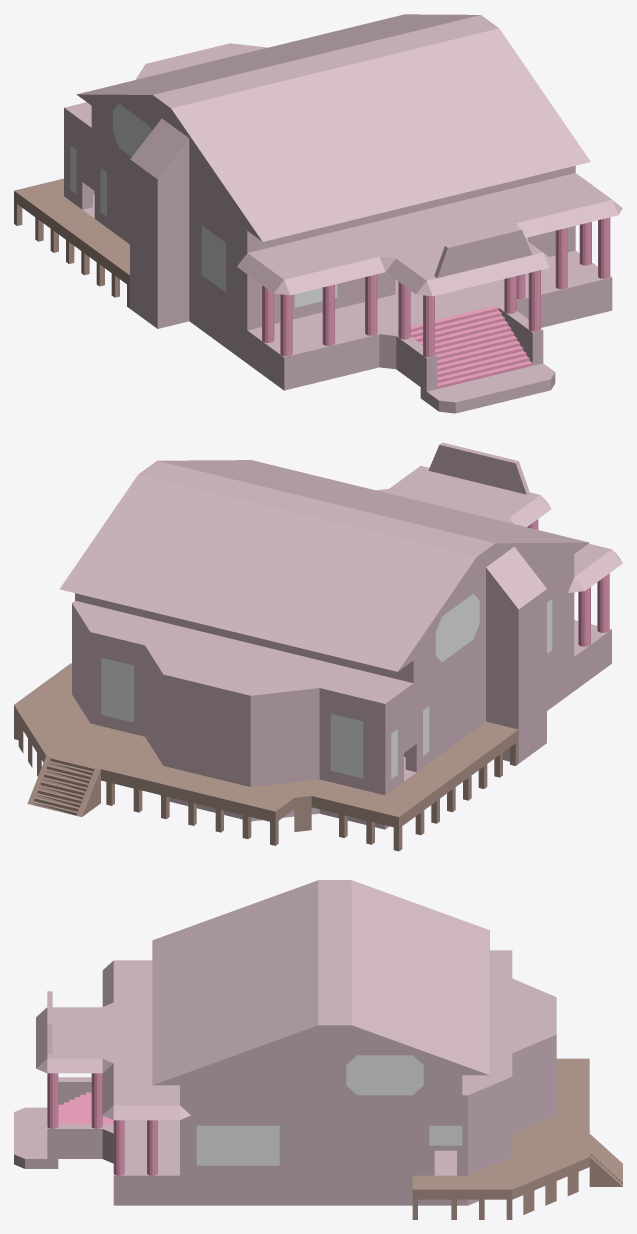
Rendered from deckhouse.glb.
3 views of the same model, one above another, from view 1: azimuth 30°, elevation 25°; view 2: azimuth 150°, elevation 25°; view 3: azimuth 270°, elevation 25° (orthographic). The views are drawn at different scales.
Visible parts, largest first — view 1: group1162040733, group1646688296, group1512824387, group1967046676, group632851983, group684463606, group309805238, group1024237734, group1179195914, group298094042, group628098600, group177792663 (+54 smaller); view 2: group340394544, group1374655403, group192495614, group1699825223, group1607319648, group163149771, group206490035, group1179195914, group298094042, group1072760689, group1842724371, group628098600 (+49 smaller); view 3: group1162040733, group2041255099, group1646688296, group315160935, group1179195914, group1512824387, group1699825223, group1374655403, group1024237734, group684463606, group1607319648, group192495614 (+50 smaller).
Part boxes in pixels (x1,y1,x2,y2): group1162040733: [83, 195, 612, 390]; group1646688296: [248, 173, 611, 279]; group1512824387: [171, 28, 514, 130]; group1967046676: [201, 73, 544, 174]; group632851983: [247, 139, 590, 241]; group684463606: [186, 50, 529, 152]; group309805238: [232, 117, 575, 219]; group1024237734: [217, 95, 559, 197]; group1179195914: [152, 15, 498, 118]; group298094042: [130, 159, 168, 328]; group628098600: [32, 196, 129, 286]; group177792663: [168, 177, 189, 326]; group340394544: [90, 611, 413, 715]; group1374655403: [75, 543, 429, 648]; group192495614: [59, 566, 413, 671]; group1699825223: [122, 474, 476, 579]; group1607319648: [107, 497, 460, 602]; group163149771: [91, 520, 444, 625]; group206490035: [163, 670, 256, 786]; group1179195914: [138, 460, 495, 567]; group298094042: [508, 589, 546, 763]; group1072760689: [101, 755, 294, 822]; group1842724371: [404, 642, 485, 762]; group628098600: [385, 721, 518, 814]; group1162040733: [113, 1120, 478, 1205]; group2041255099: [191, 1055, 312, 1125]; group1646688296: [113, 960, 179, 1105]; group315160935: [335, 1105, 423, 1175]; group1179195914: [318, 880, 351, 1035]; group1512824387: [290, 880, 318, 1039]; group1699825223: [351, 880, 379, 1035]; group1374655403: [434, 910, 462, 1065]; group1024237734: [207, 910, 235, 1065]; group684463606: [263, 890, 290, 1050]; group1607319648: [379, 890, 406, 1045]; group192495614: [462, 920, 489, 1075].
Bounding box in the file's own units: 0.74 × 0.38 × 1.1.
